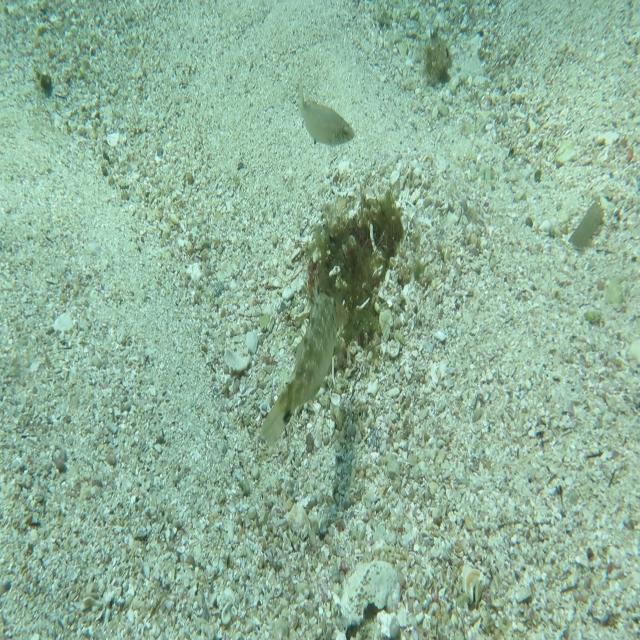AM: (260, 272, 338, 450)
core_nest: (346, 216, 394, 253)
female: (298, 82, 356, 146)
nest: (297, 177, 422, 372)
nest_material: (334, 298, 350, 328)
